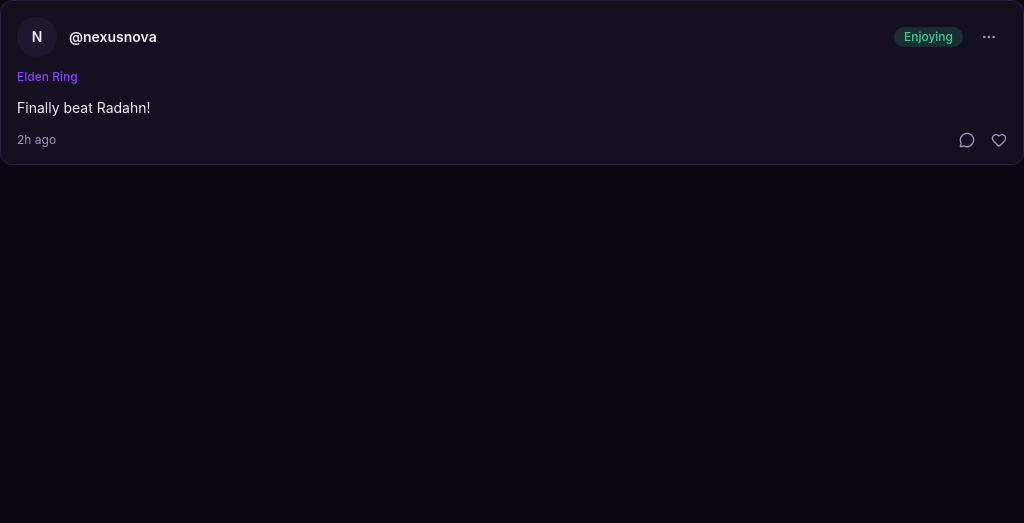
Test case: PostCard — edit mode › switches to editing on Edit click with pre-filled textarea
Click the button named "post options" at [989, 37], box x1=971 y1=19 x2=1007 y2=55
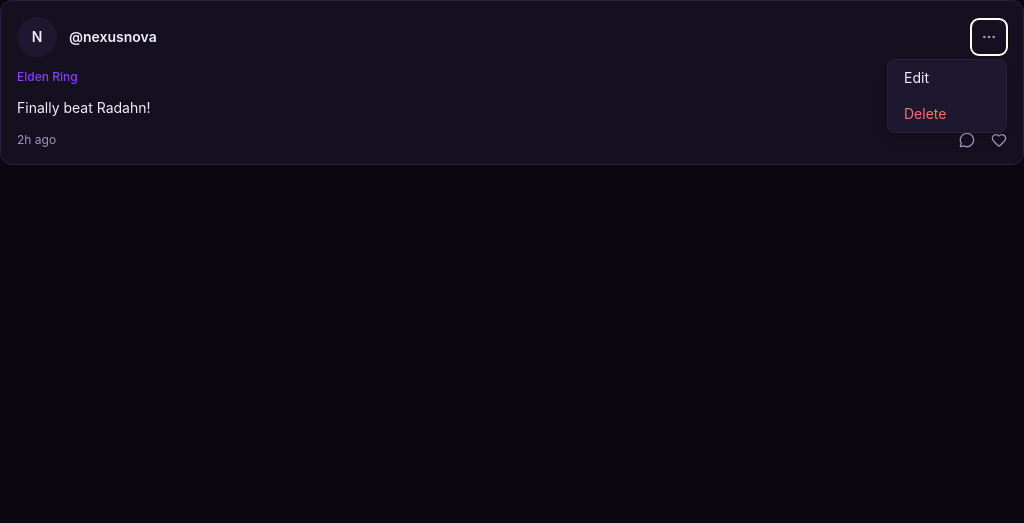
Click the button "Edit" at [947, 78], box x1=888 y1=60 x2=1006 y2=96
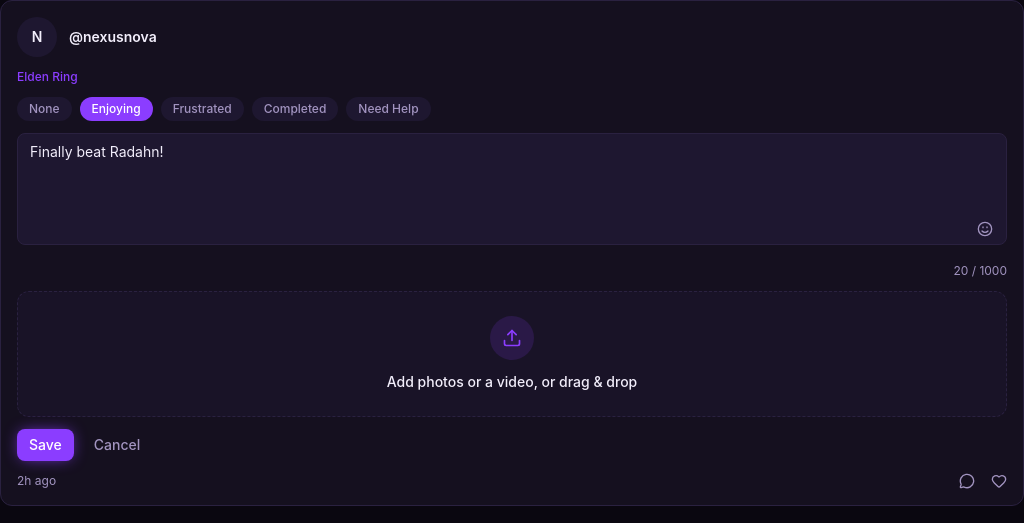
Check: the text box named "edit post text" holds "Finally beat Radahn!", box x1=17 y1=133 x2=1007 y2=245
